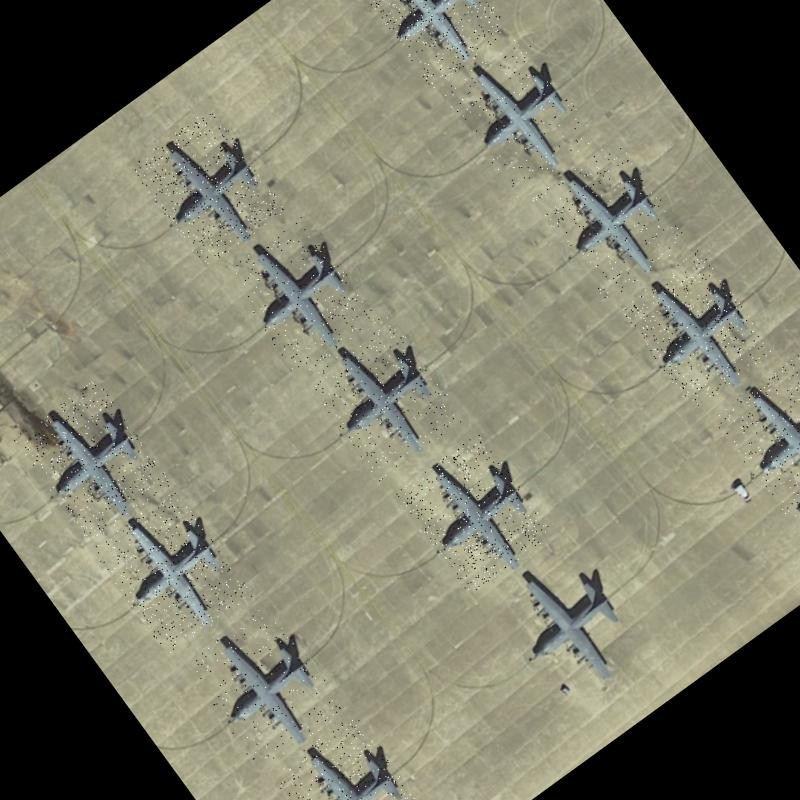A2: (182, 601, 346, 772), (90, 487, 253, 656), (303, 315, 465, 481), (12, 378, 172, 544), (532, 138, 692, 303), (439, 31, 598, 196), (222, 214, 380, 378), (488, 541, 646, 705), (396, 431, 554, 594), (618, 248, 775, 411), (130, 106, 286, 269), (711, 351, 800, 522), (270, 713, 436, 800), (356, 0, 511, 88)
